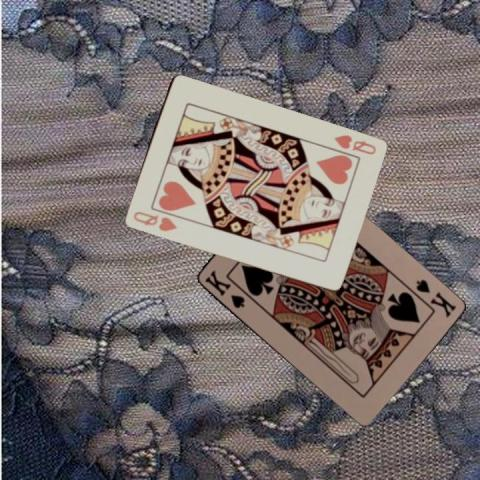Ks: (201, 267, 246, 310), (412, 276, 457, 319)
Qh: (129, 208, 178, 233), (331, 132, 377, 157)
